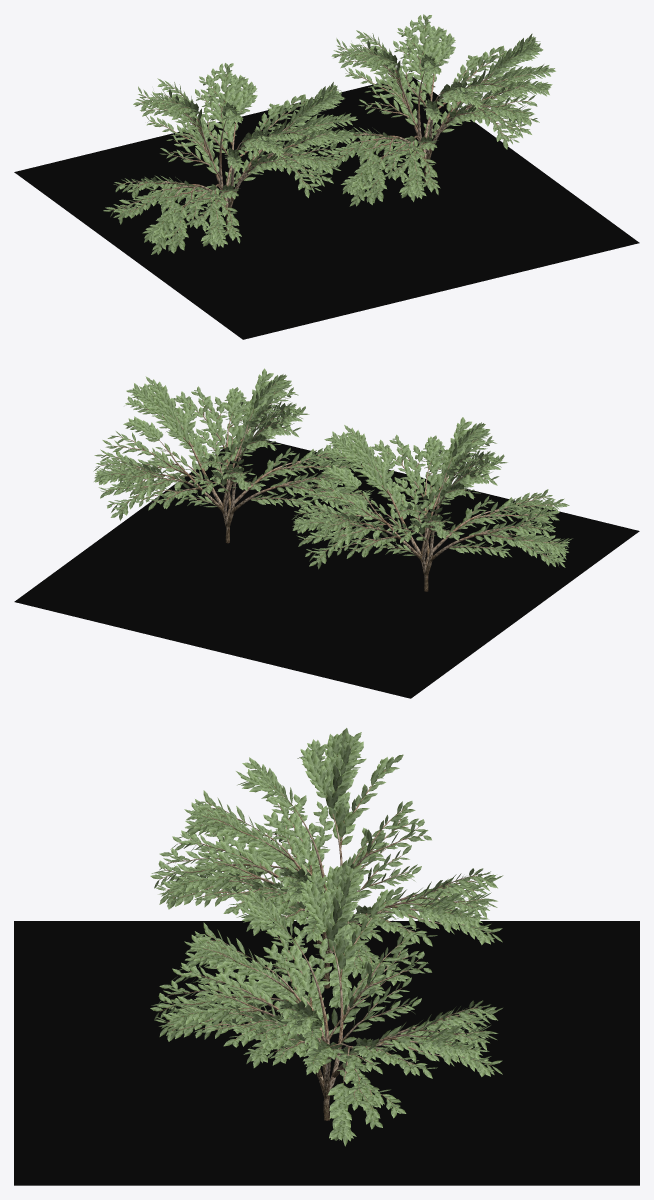
Rendered from Tree.glb.
The picture shows the model from 3 angles, top to bottom: view 1: azimuth 30°, elevation 25°; view 2: azimuth 150°, elevation 25°; view 3: azimuth 270°, elevation 25°; orthographic projection. The views are drawn at different scales.
Parts seen in each view (by area): view 1: 平面, leaves2, leaves1, Tree2, Tree1; view 2: 平面, leaves2, leaves1, Tree2, Tree1; view 3: 平面, leaves1, leaves2, Tree1, Tree2.
Boxes of the visible parts, left/top/right/bottom form: 平面: left=14, top=76, right=639, bottom=339; leaves2: left=103, top=63, right=357, bottom=254; leaves1: left=308, top=14, right=555, bottom=206; Tree2: left=112, top=74, right=347, bottom=241; Tree1: left=322, top=26, right=545, bottom=197; 平面: left=14, top=438, right=639, bottom=698; leaves2: left=292, top=417, right=572, bottom=569; leaves1: left=93, top=368, right=374, bottom=520; Tree2: left=299, top=433, right=564, bottom=591; Tree1: left=100, top=384, right=361, bottom=543; 平面: left=14, top=921, right=639, bottom=1185; leaves1: left=150, top=860, right=502, bottom=1146; leaves2: left=150, top=728, right=503, bottom=1009; Tree1: left=159, top=880, right=491, bottom=1120; Tree2: left=159, top=747, right=491, bottom=988.
Bounding box in the file's own units: 4.51 × 1.53 × 4.
Materials: 5 (4 with a texture image).
